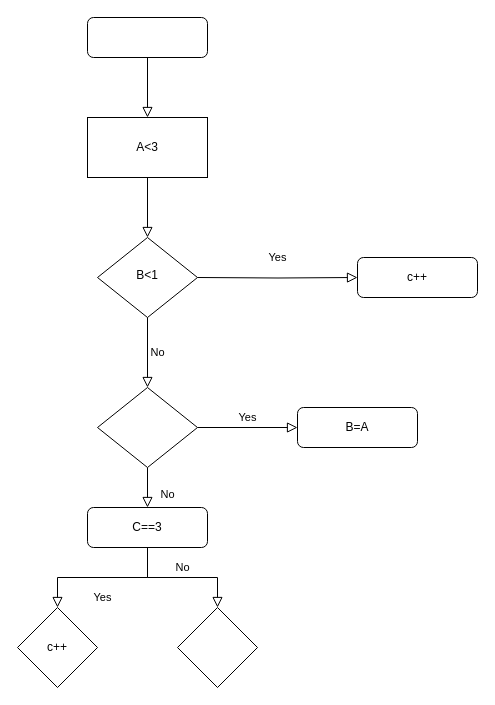
This 495x705 diagram has some shape labels left out. Here are the shapes that lost their labels. From the top down, the box of each, then its label:
(86, 16, 208, 58): Start
(96, 386, 198, 468): A>B
(176, 606, 258, 688): a++
